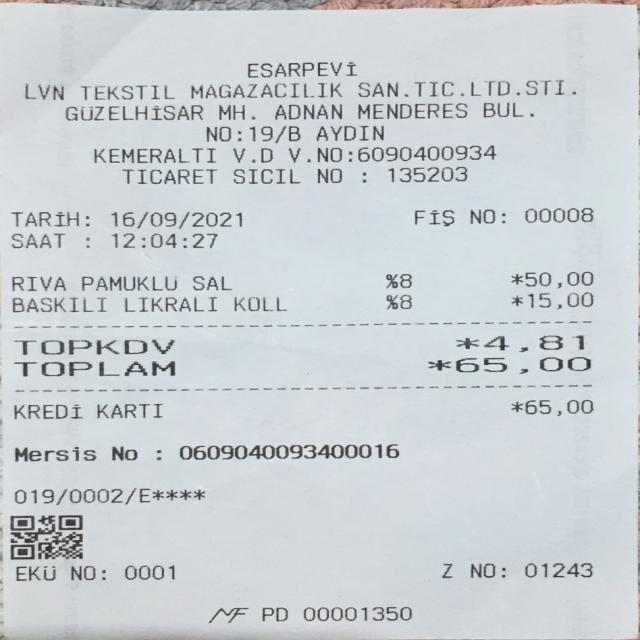text: (178, 442, 398, 458), (356, 78, 562, 95), (13, 337, 172, 354), (111, 208, 239, 229), (12, 359, 174, 375), (356, 142, 494, 160), (454, 355, 590, 373), (188, 81, 340, 97), (111, 228, 216, 249), (93, 145, 214, 163), (64, 103, 200, 119), (301, 605, 410, 622), (482, 333, 583, 351), (10, 294, 104, 313), (122, 294, 215, 313), (244, 61, 354, 77), (355, 101, 465, 117), (80, 273, 174, 291), (122, 167, 216, 184), (13, 443, 94, 462), (80, 82, 172, 98), (11, 207, 77, 228), (522, 205, 590, 224), (524, 560, 591, 579), (526, 290, 592, 309), (387, 165, 465, 181), (522, 270, 590, 288), (522, 398, 590, 416), (274, 101, 340, 118), (232, 166, 297, 183), (12, 402, 81, 418), (11, 228, 63, 249), (314, 124, 382, 140), (9, 273, 63, 292), (96, 402, 160, 418), (232, 294, 284, 313), (67, 486, 119, 504), (124, 562, 172, 580), (407, 208, 454, 226), (231, 144, 271, 163), (22, 82, 62, 100), (13, 486, 52, 504), (16, 562, 54, 580), (191, 273, 228, 291), (211, 604, 245, 623), (482, 100, 521, 116), (109, 442, 136, 461), (258, 606, 288, 622), (469, 560, 494, 579), (468, 207, 493, 225), (427, 354, 449, 374), (454, 333, 477, 352), (70, 562, 94, 580), (315, 146, 342, 162), (316, 165, 340, 182), (217, 102, 242, 118), (248, 124, 271, 141), (204, 124, 228, 140), (288, 144, 309, 162), (138, 485, 152, 504), (509, 270, 522, 288), (509, 398, 521, 416), (384, 272, 396, 289), (510, 291, 521, 309), (123, 486, 134, 504), (287, 124, 299, 140), (384, 292, 396, 308), (399, 272, 410, 289), (54, 486, 64, 504), (274, 124, 285, 140), (398, 292, 409, 308), (442, 560, 451, 579), (359, 165, 364, 182), (84, 228, 88, 249), (570, 77, 574, 94), (250, 102, 254, 118), (155, 442, 158, 460), (237, 124, 240, 140), (501, 560, 503, 579), (101, 562, 103, 580), (528, 100, 530, 116), (85, 208, 86, 228)
